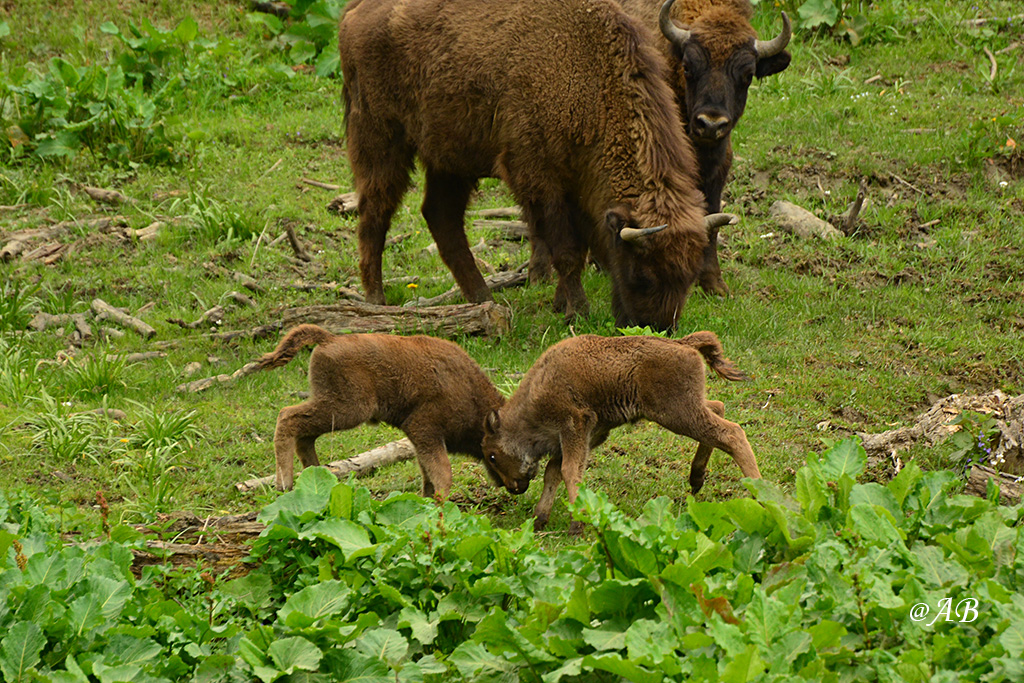zubr: (281, 1, 743, 365), (247, 294, 531, 542), (474, 323, 787, 531), (656, 11, 822, 213)
